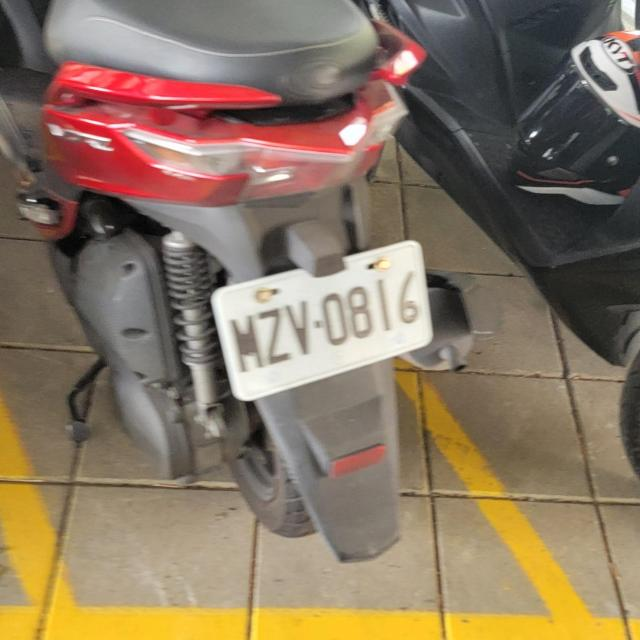W: (203, 232, 444, 406)
